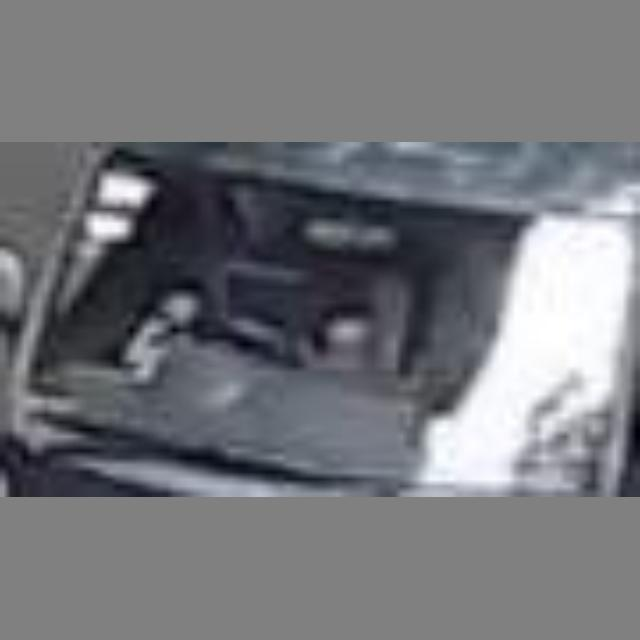tidak-pakai: (114, 156, 348, 370)
